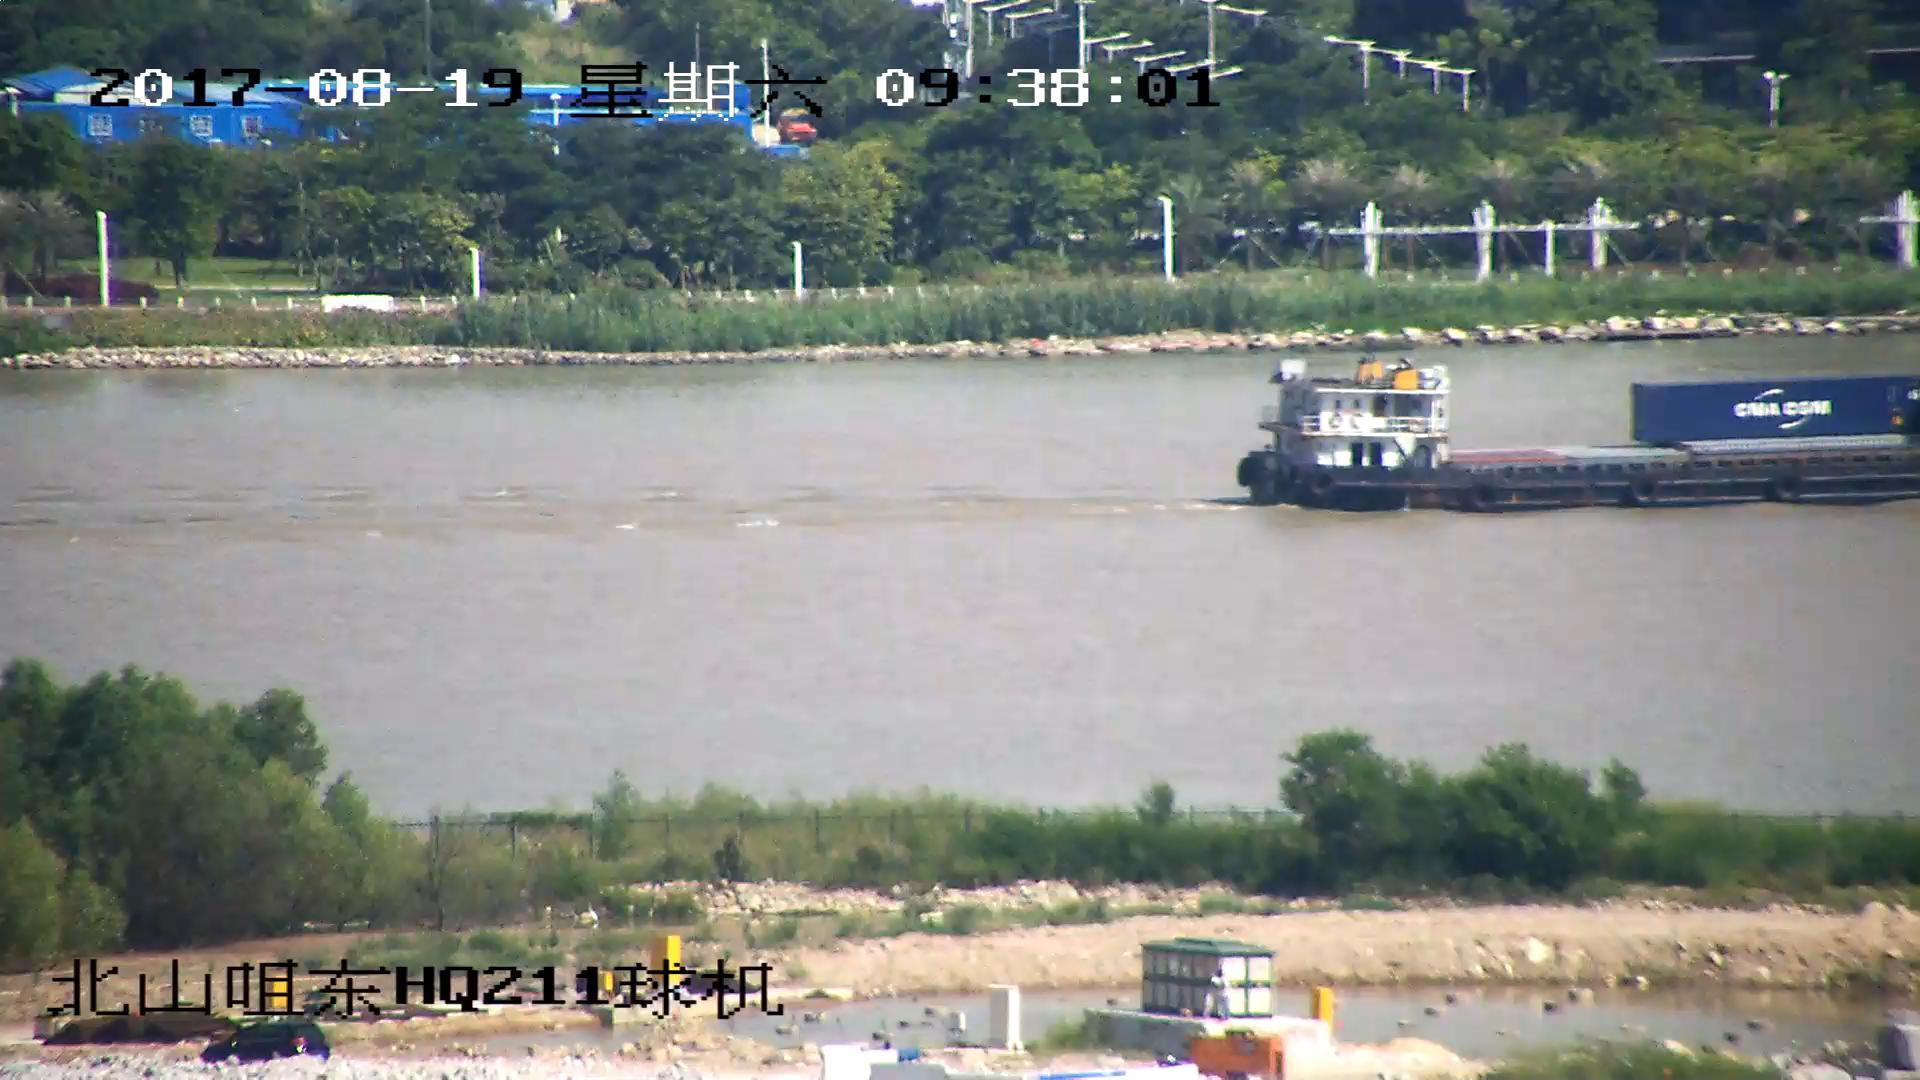Ship: (1234, 353, 1920, 518)
